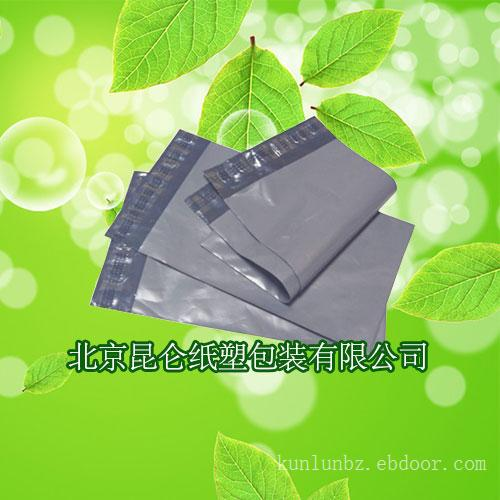Parcel: (90, 84, 429, 360)
